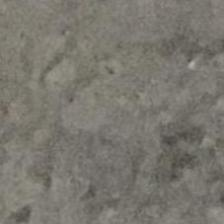Non_Crack: (1, 8, 224, 202)
